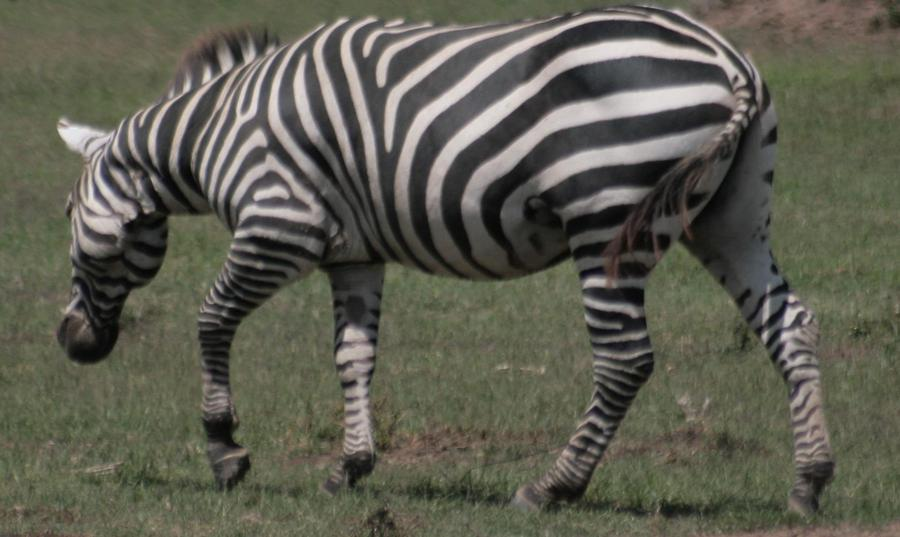zebra_plains: (197, 7, 685, 301)
